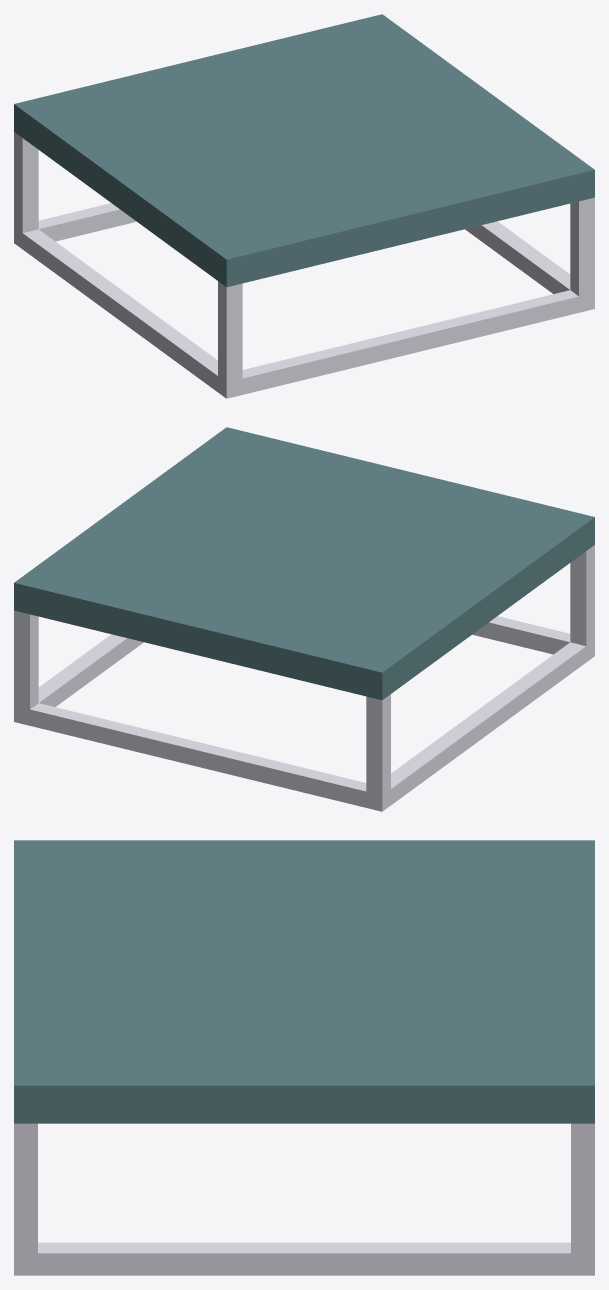
File: Prop_Table_09.fbx
The picture shows the model from 3 angles, top to bottom: view 1: azimuth 30°, elevation 25°; view 2: azimuth 150°, elevation 25°; view 3: azimuth 270°, elevation 25°; orthographic projection. The views are drawn at different scales.
Visible parts, largest first — view 1: Prop_Table_09; view 2: Prop_Table_09; view 3: Prop_Table_09.
Boxes of the visible parts, left/top/right/bottom form: Prop_Table_09: left=14, top=14, right=594, bottom=398; Prop_Table_09: left=14, top=427, right=594, bottom=811; Prop_Table_09: left=14, top=840, right=594, bottom=1275.
Size of the model in its own units: 125 by 45.25 by 125.
